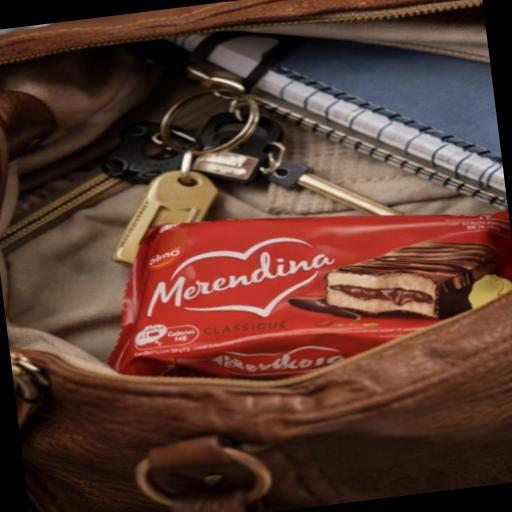merendina: (97, 161, 512, 431)
